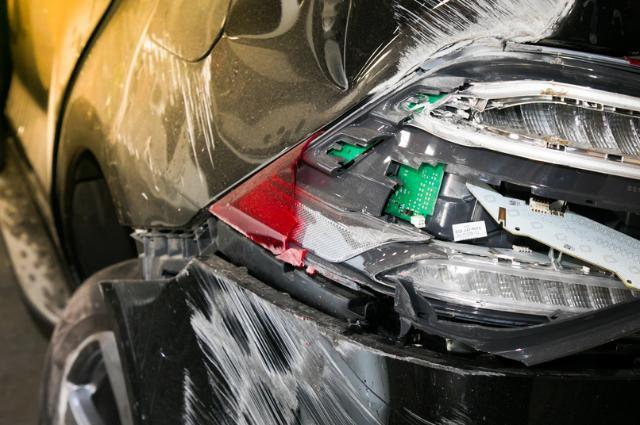Bumper: (105, 258, 640, 425)
Fender: (93, 17, 263, 213)
Light: (272, 51, 640, 315)
